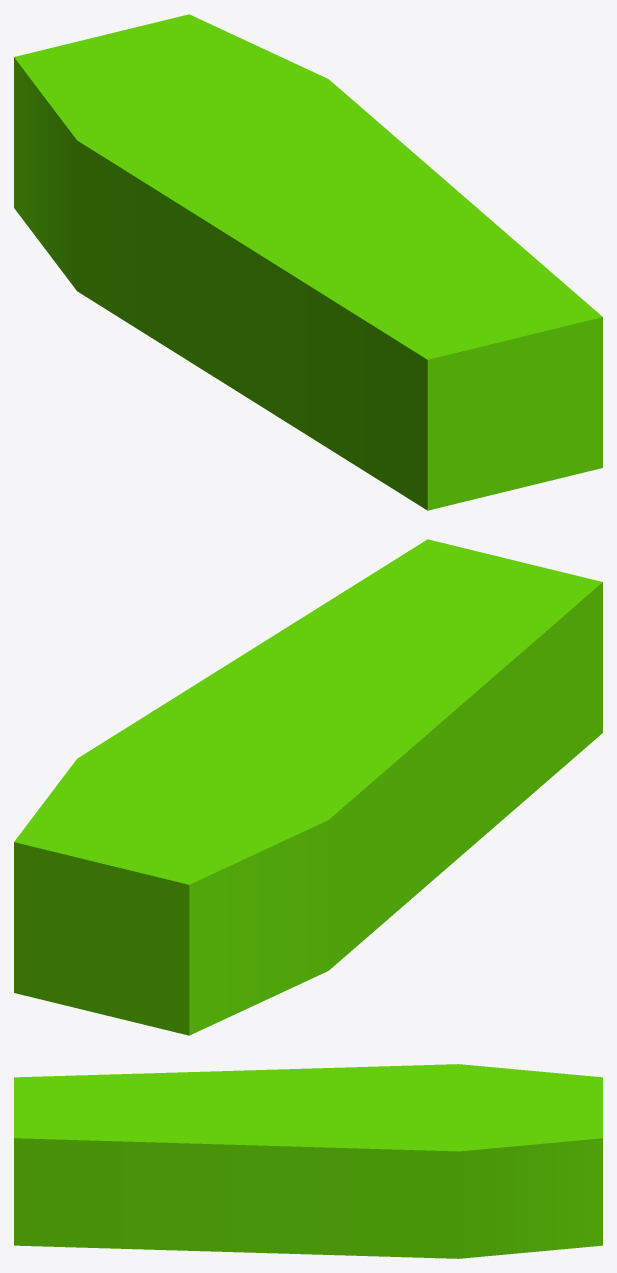
The model's file is Coffin_Collider.fbx.
The picture shows the model from 3 angles, top to bottom: view 1: azimuth 30°, elevation 25°; view 2: azimuth 150°, elevation 25°; view 3: azimuth 270°, elevation 25°; orthographic projection. The views are drawn at different scales.
Visible parts, largest first — view 1: Coffin_Collider; view 2: Coffin_Collider; view 3: Coffin_Collider.
Part boxes in pixels (x1,y1,x2,y2): Coffin_Collider: [14, 14, 602, 510]; Coffin_Collider: [14, 539, 602, 1035]; Coffin_Collider: [14, 1064, 602, 1258].
Size of the model in its own units: 60.07 by 34.43 by 171.
